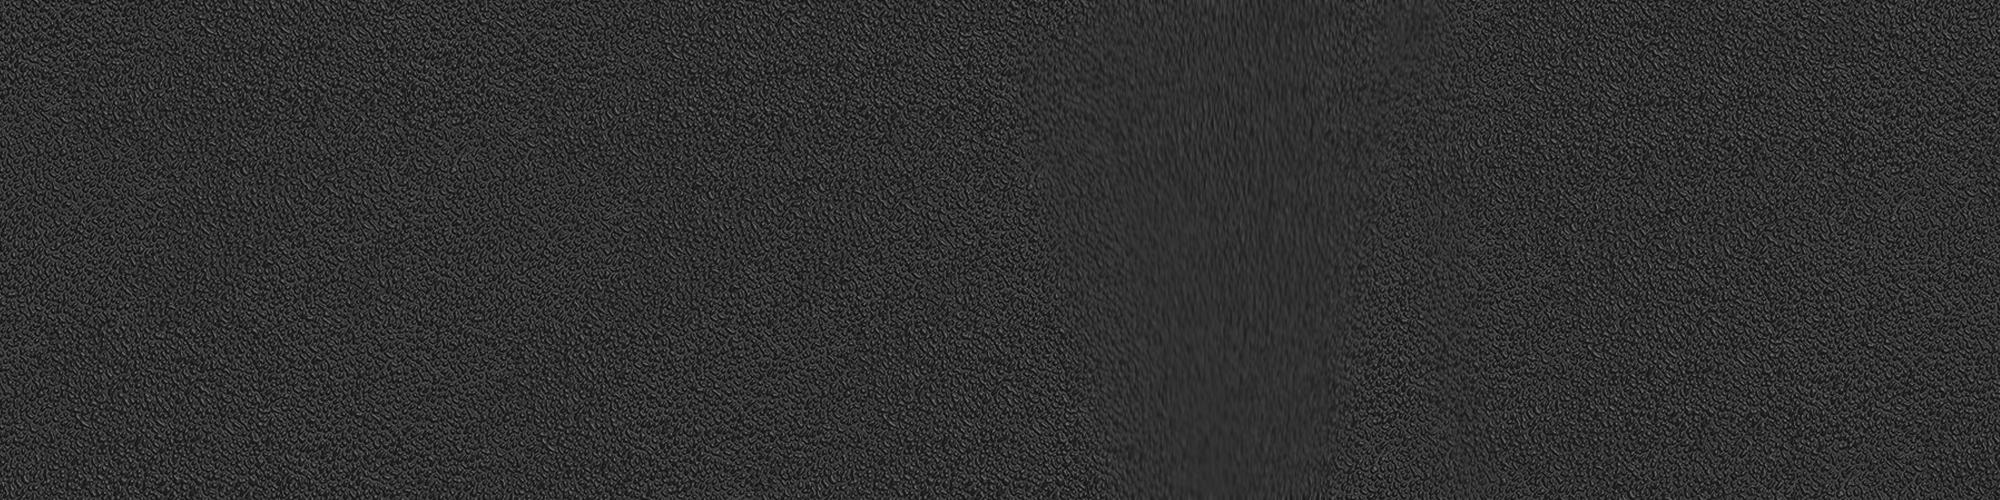Flow_Lines: (1006, 29, 1386, 485)
